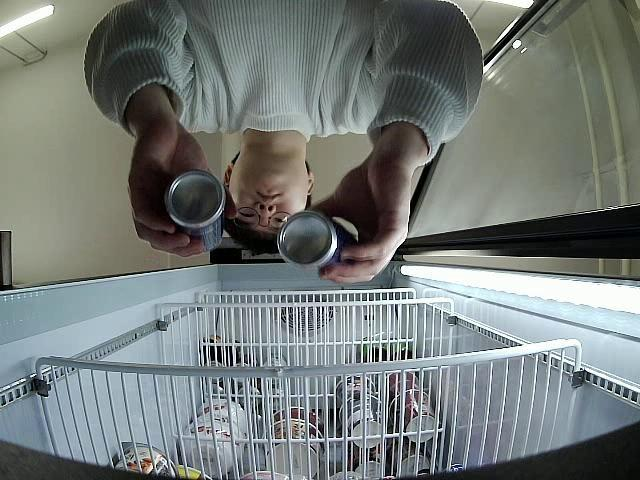16_hot6: (166, 169, 228, 254), (278, 212, 358, 272)
